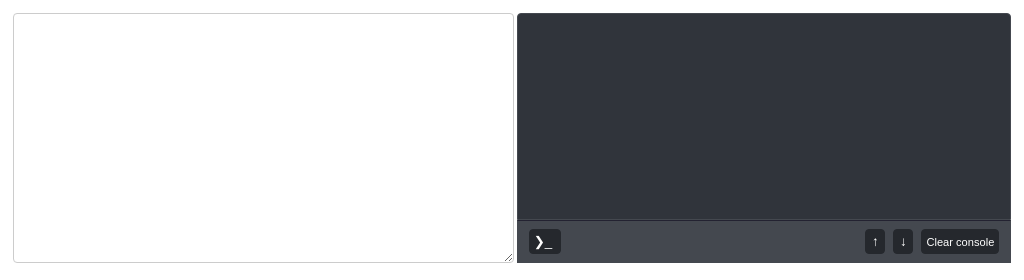
it: QuikConsole › Write `return "Hello World!";` to the console and execute.
Write 'return "Hello World!"' to the console (textarea)
Type "return \"Hello World!\";" into the text box with id "_qwik-console-textarea" at (764, 116), box x1=517 y1=13 x2=1011 y2=220
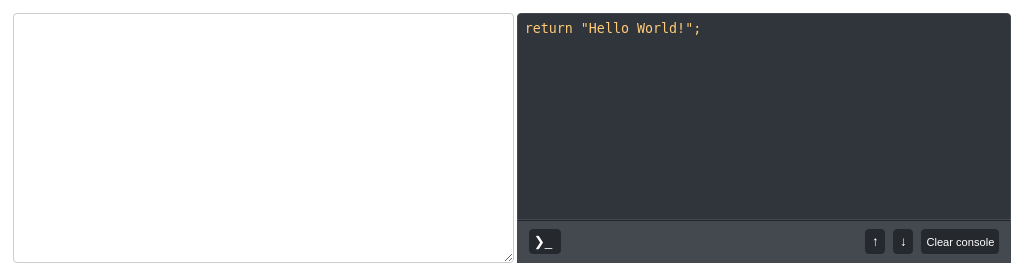
Click the button "❯_" at (545, 242), box x1=529 y1=229 x2=561 y2=254
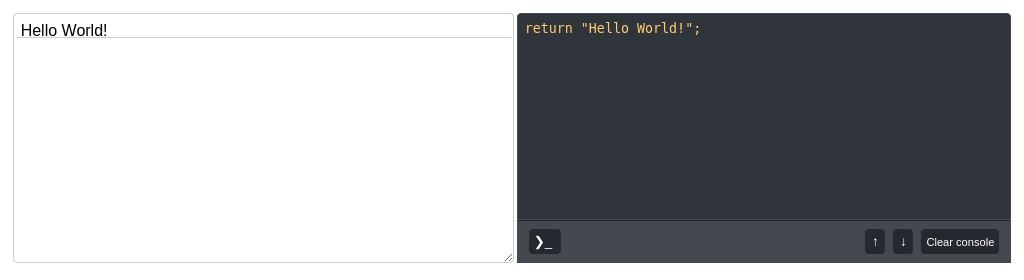
Expected: the text "Hello World!" is shown, x1=17 y1=18 x2=112 y2=43
